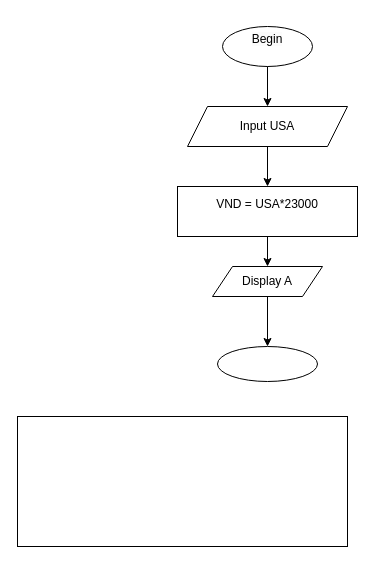
This 375x564 diagram has some shape labels left out. The centre of each missing label's shape, as x and y in pixels:
Begin Input USA VND = USA*23000 Display VND End: point 182,481
End: point 267,364
